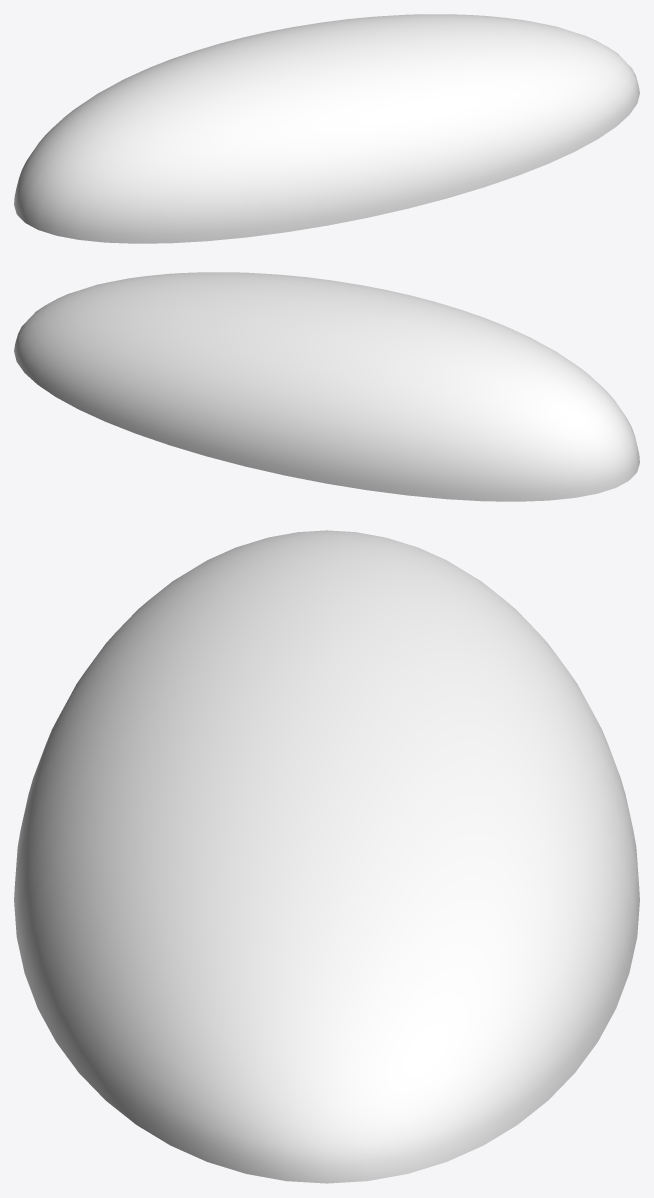
File: hill_ridge.obj
3 views of the same model, one above another, from view 1: azimuth 30°, elevation 25°; view 2: azimuth 150°, elevation 25°; view 3: azimuth 270°, elevation 25° (orthographic). The views are drawn at different scales.
Parts seen in each view (by area): view 1: hill_ridge; view 2: hill_ridge; view 3: hill_ridge.
Part boxes in pixels (<box>): hill_ridge: <box>14,14,639,243</box>; hill_ridge: <box>14,272,639,501</box>; hill_ridge: <box>14,530,639,1183</box>.
Size of the model in its own units: 12 by 2 by 5.6.
Materials: 1 (1 with a texture image).
